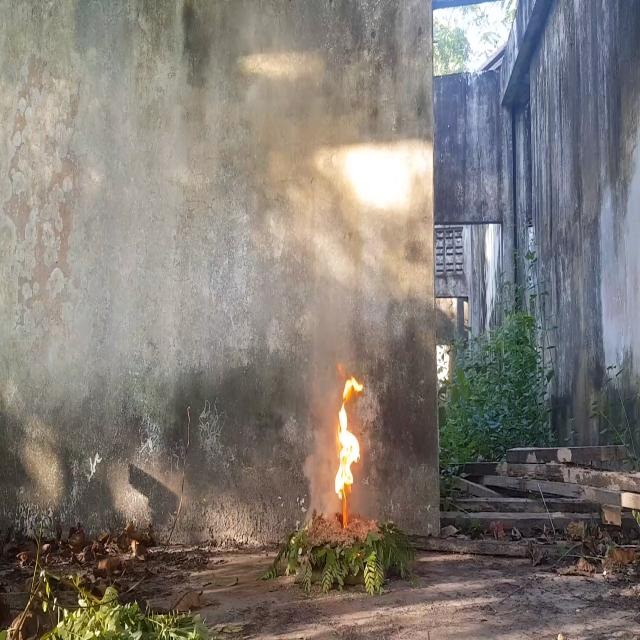fire: (331, 365, 362, 504)
smoke: (252, 45, 346, 346)
